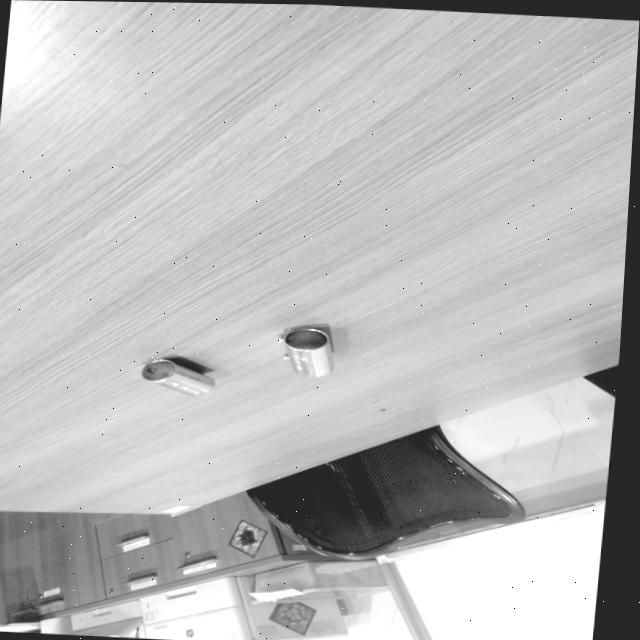Co_Lon: (276, 321, 338, 383)
Co_Nho: (139, 350, 217, 405)
